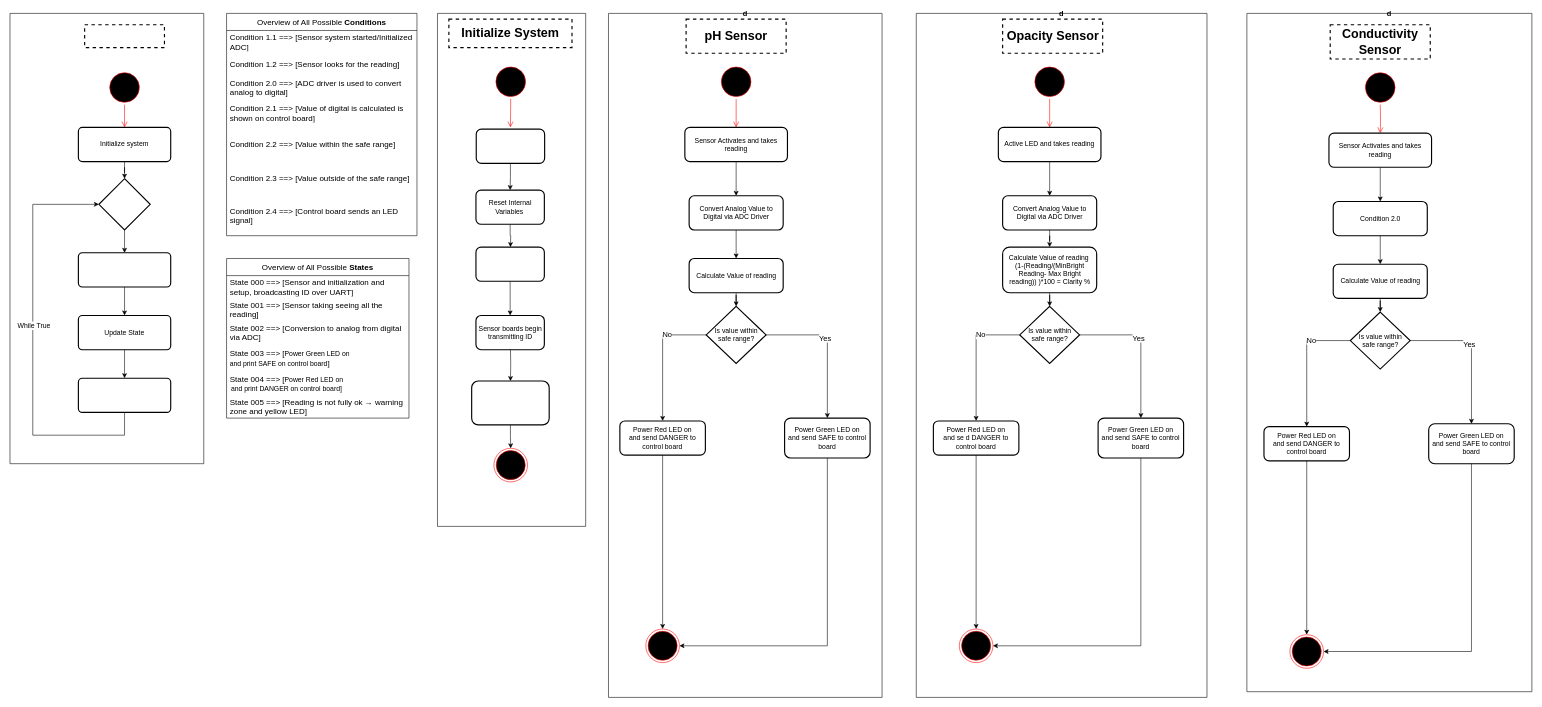
Some shapes in this 1542 by 707 pixel diagram are drawn without their labels. The centre of each missing label's shape, as x and y in pixels:
Initialize UART on all boards: the point at 510,264
Main Loop: the point at 124,36
Read Inputs: the point at 124,269
Set Hardware Resgisters: the point at 510,146
Set Outputs: the point at 124,395
Set State 000: the point at 510,402
